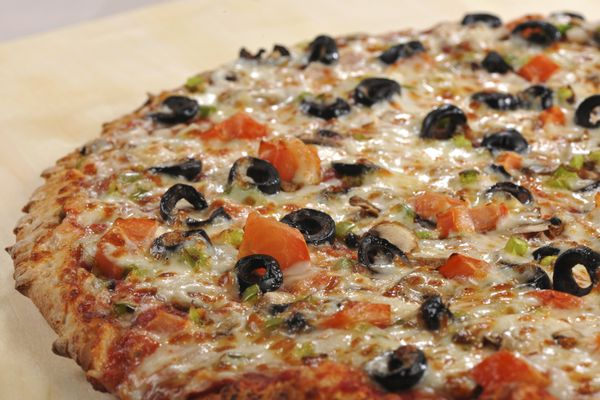sandwich: (4, 24, 598, 396)
